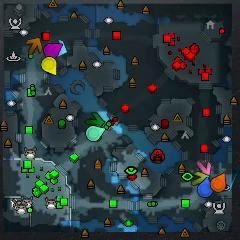p1: (198, 178, 213, 198)
p2: (87, 126, 105, 141)
p3: (45, 43, 63, 58)
p4: (42, 57, 57, 76)
p5: (211, 172, 226, 192)
x1: (197, 159, 211, 175)
x2: (192, 172, 209, 186)
x3: (57, 39, 67, 56)
x4: (86, 112, 104, 128)
x5: (26, 37, 42, 56)
